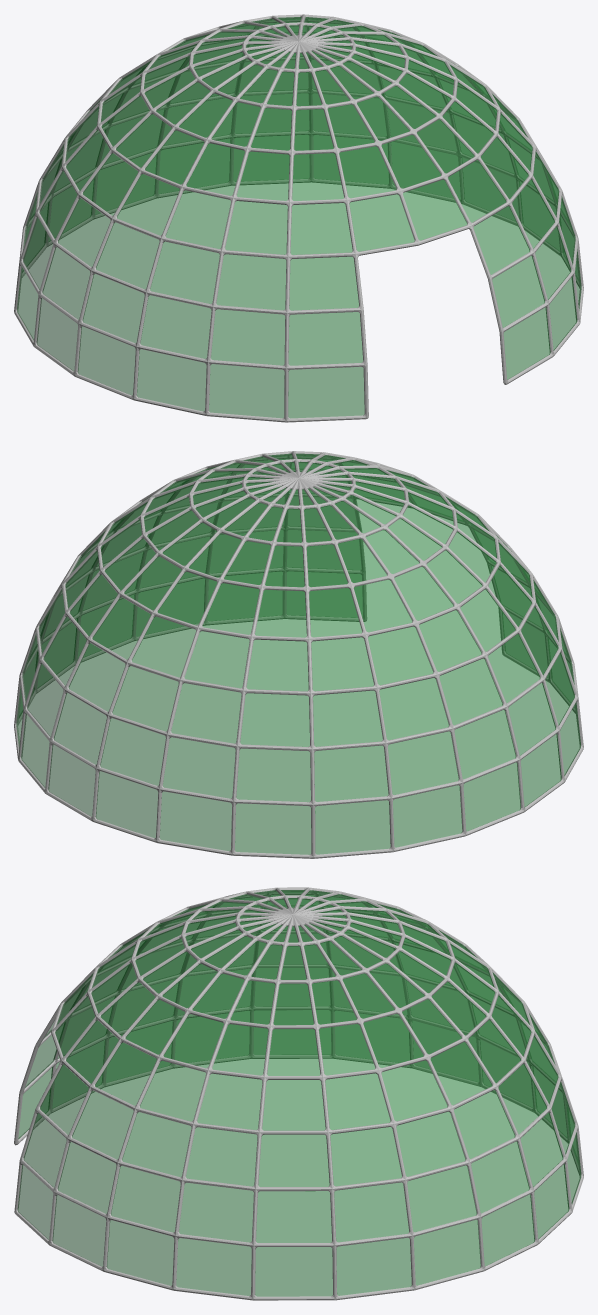
Rendered from Dome(2).fbx.
3 views of the same model, one above another, from view 1: azimuth 30°, elevation 25°; view 2: azimuth 150°, elevation 25°; view 3: azimuth 270°, elevation 25° (orthographic).
Parts seen in each view (by area): view 1: Sphere; view 2: Sphere; view 3: Sphere.
Boxes of the visible parts, bbox=[...] form: Sphere: bbox=[14, 14, 583, 422]; Sphere: bbox=[14, 451, 583, 858]; Sphere: bbox=[14, 887, 583, 1300].
Bounding box in the file's own units: 410 × 208 × 406.
